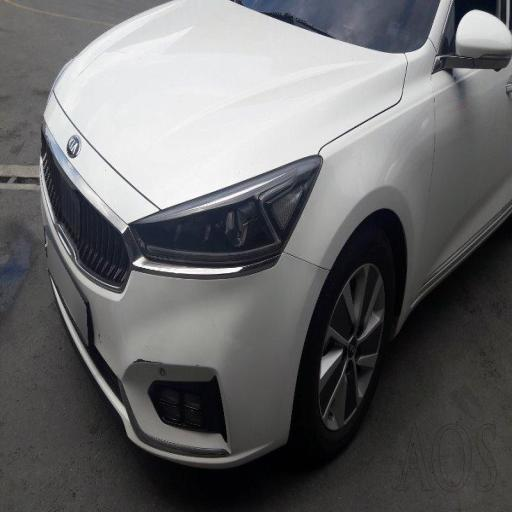scratch: (109, 325, 259, 494)
